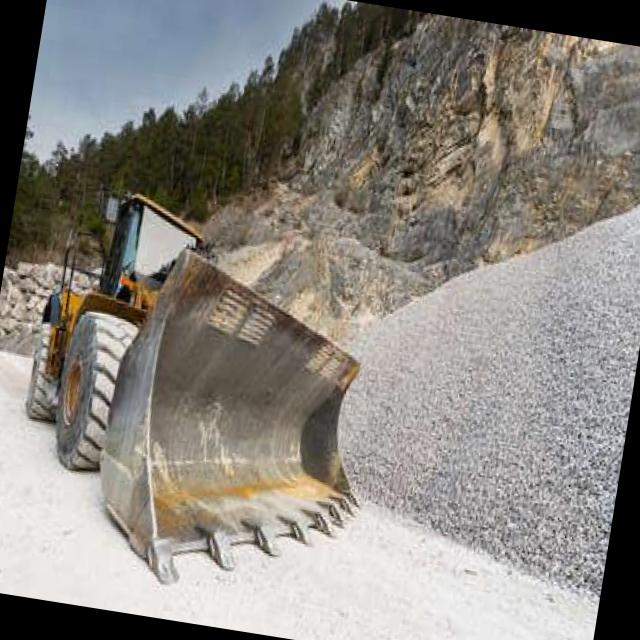pala cargadora: (0, 179, 395, 612)
